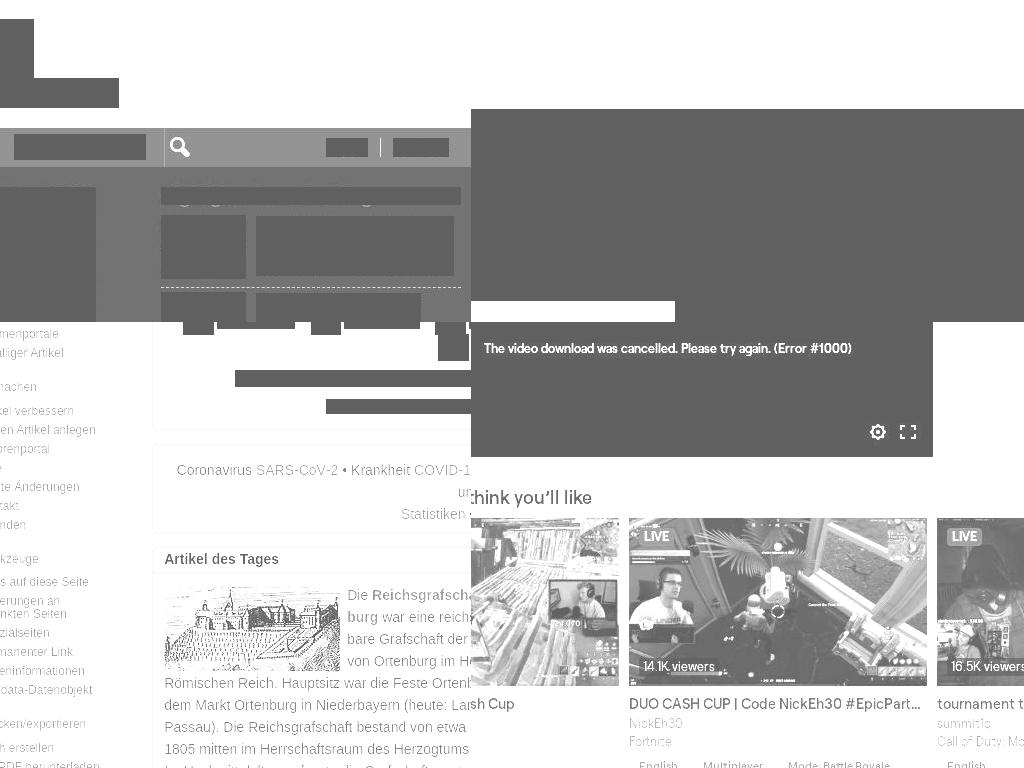button: (629, 518, 927, 686), (471, 518, 619, 686), (937, 518, 1024, 686), (608, 322, 728, 370), (629, 695, 927, 712), (471, 695, 619, 712), (778, 755, 900, 768), (937, 695, 1024, 712), (693, 755, 773, 768), (863, 417, 893, 447), (893, 417, 923, 447), (629, 755, 688, 768), (937, 755, 996, 768)
heading: (0, 322, 137, 768), (471, 109, 675, 301), (256, 216, 454, 276), (161, 187, 461, 205), (629, 695, 927, 712), (256, 293, 421, 322), (0, 78, 119, 108), (164, 551, 280, 568), (0, 379, 110, 394), (0, 551, 110, 566), (0, 717, 110, 732), (937, 695, 1024, 712), (471, 695, 515, 712)
image: (471, 322, 1024, 624), (471, 322, 1024, 602), (500, 322, 1024, 602), (471, 322, 1024, 579), (597, 322, 1024, 624), (471, 322, 1024, 502), (471, 322, 1024, 480), (500, 322, 1024, 480), (597, 322, 1024, 502), (471, 322, 1024, 457), (471, 322, 933, 457), (629, 518, 927, 686), (471, 518, 619, 686), (164, 583, 341, 672), (937, 518, 1024, 686), (161, 215, 246, 279), (608, 322, 728, 365), (943, 407, 1024, 457), (161, 292, 246, 322), (629, 685, 927, 692), (471, 685, 619, 692), (629, 518, 635, 686), (937, 518, 943, 686), (438, 334, 469, 361), (937, 685, 1024, 692), (183, 322, 214, 335), (435, 322, 466, 335), (868, 422, 888, 442), (898, 422, 918, 442), (311, 322, 341, 335)
link: (347, 586, 471, 625), (14, 134, 146, 160), (235, 370, 374, 387), (0, 594, 68, 622), (384, 370, 471, 387), (0, 422, 97, 437), (255, 461, 338, 478), (0, 683, 93, 698), (937, 733, 1024, 749), (951, 657, 1024, 676), (643, 657, 715, 676), (0, 575, 90, 590), (0, 664, 86, 679), (0, 479, 81, 494), (0, 403, 75, 418), (0, 645, 74, 660), (400, 505, 465, 522), (393, 138, 449, 157), (403, 399, 471, 414), (326, 399, 393, 414), (0, 345, 65, 360), (414, 461, 471, 478), (0, 326, 60, 341), (937, 715, 991, 731), (629, 715, 682, 731), (0, 741, 55, 756), (0, 760, 101, 768), (326, 138, 368, 157), (0, 441, 51, 456), (0, 626, 51, 641), (629, 733, 672, 749), (217, 322, 295, 329), (344, 322, 420, 329), (644, 528, 669, 546), (952, 528, 977, 546), (0, 517, 27, 532), (0, 498, 20, 513)
text: (675, 109, 1024, 322), (164, 608, 471, 768), (484, 342, 852, 356), (471, 486, 592, 508), (176, 461, 256, 478), (338, 461, 415, 478), (780, 757, 898, 768), (695, 757, 771, 768), (631, 757, 686, 768), (939, 757, 994, 768), (347, 586, 373, 603), (457, 483, 471, 500), (373, 370, 385, 387), (392, 399, 403, 414)
